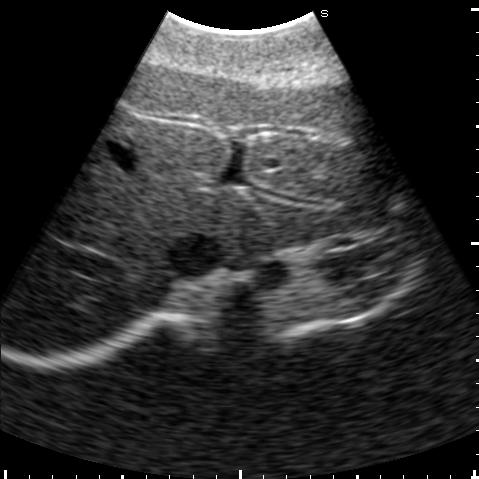IVC: (166, 232, 221, 276)
S1: (232, 205, 277, 256)
S2: (246, 177, 414, 241)
S3: (232, 80, 405, 205)
